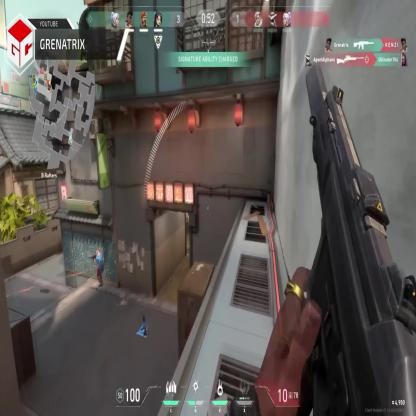enemy: (95, 248, 104, 289)
enemy_head: (96, 250, 99, 256)
